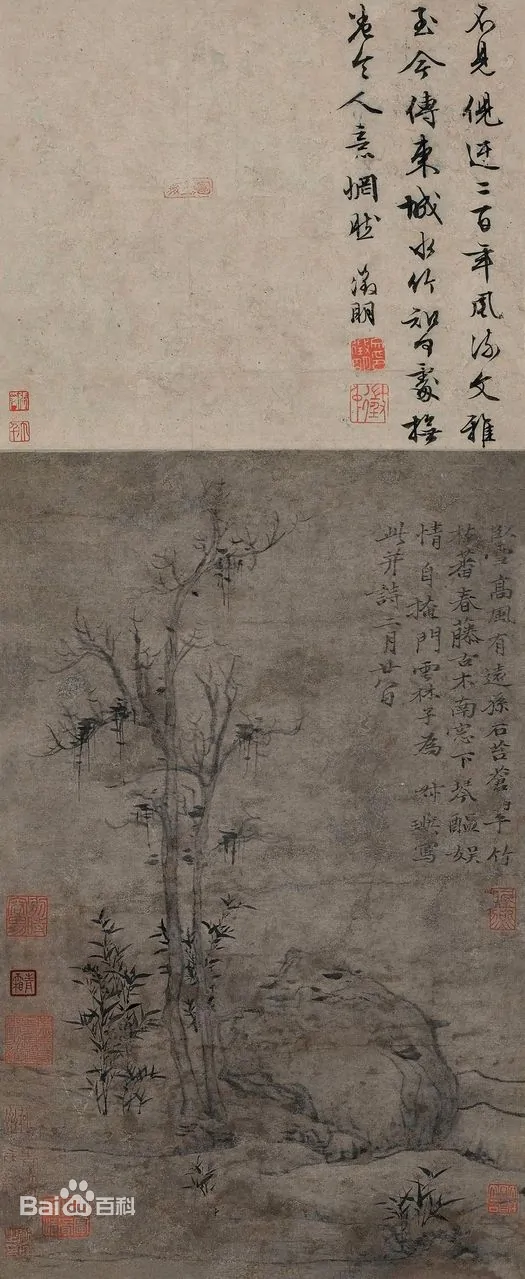bamboo: (79, 931, 163, 1135)
rock: (258, 931, 471, 1160)
tree: (55, 501, 304, 1135)
